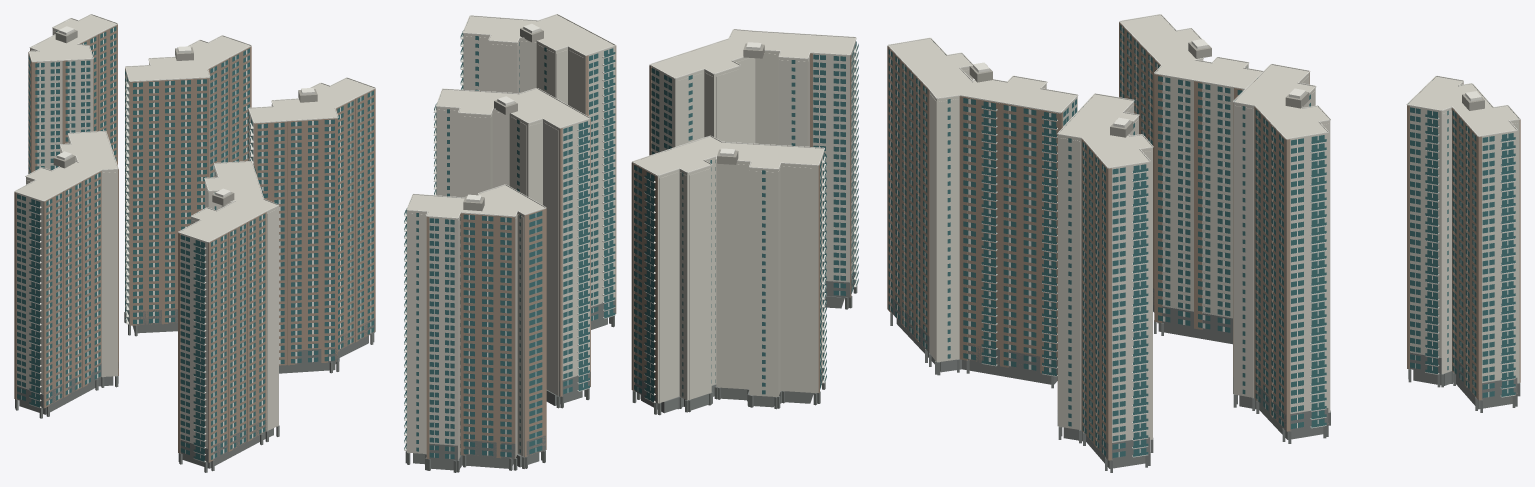
The model's file is representative-a10023825.glb.
3 renders of one model, left to right at view 1: azimuth 30°, elevation 25°; view 2: azimuth 150°, elevation 25°; view 3: azimuth 270°, elevation 25°, orthographic. The views are drawn at different scales.
Visible parts, largest first — view 1: A10023825_accent001, A10023825_glass001, A10023825_wall001, A10023825_trim001, A10023825_base001, A10023825_roof001; view 2: A10023825_wall001, A10023825_glass001, A10023825_accent001, A10023825_trim001, A10023825_base001, A10023825_roof001; view 3: A10023825_wall001, A10023825_glass001, A10023825_accent001, A10023825_trim001, A10023825_base001, A10023825_roof001.
Part boxes in pixels (<box>): A10023825_accent001: <box>14,24,375,462</box>; A10023825_glass001: <box>17,26,373,461</box>; A10023825_wall001: <box>16,15,373,448</box>; A10023825_trim001: <box>14,14,375,462</box>; A10023825_base001: <box>15,300,375,472</box>; A10023825_roof001: <box>53,29,317,205</box>; A10023825_wall001: <box>407,15,855,459</box>; A10023825_glass001: <box>404,30,858,459</box>; A10023825_accent001: <box>426,18,851,458</box>; A10023825_trim001: <box>404,14,858,458</box>; A10023825_base001: <box>405,272,857,472</box>; A10023825_roof001: <box>463,27,764,211</box>; A10023825_wall001: <box>889,15,1519,442</box>; A10023825_glass001: <box>888,25,1515,457</box>; A10023825_accent001: <box>887,22,1520,460</box>; A10023825_trim001: <box>887,14,1520,457</box>; A10023825_base001: <box>890,288,1520,472</box>; A10023825_roof001: <box>969,42,1484,137</box>.
Size of the model in its own units: 134 by 99.4 by 181.
